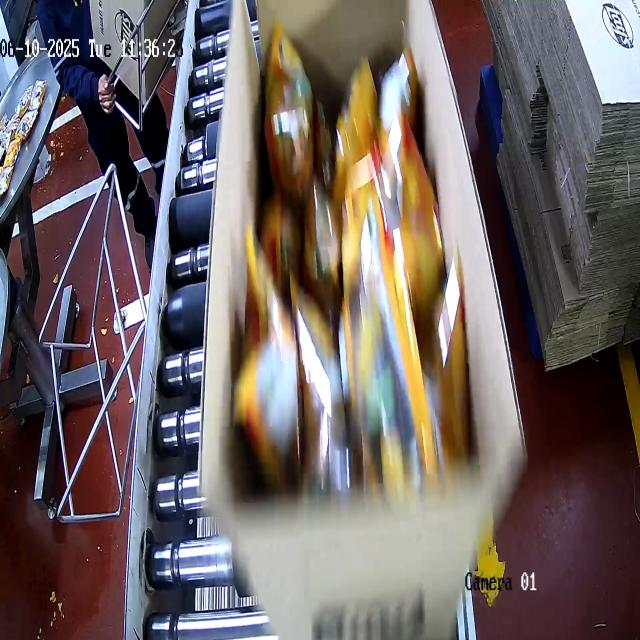FRENCH_CHEESE: (229, 35, 450, 484)
